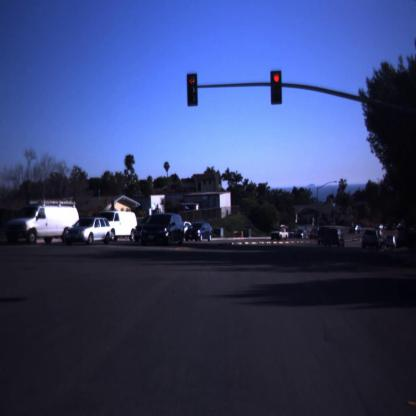trafficlight: (184, 70, 202, 107), (269, 68, 284, 106)
